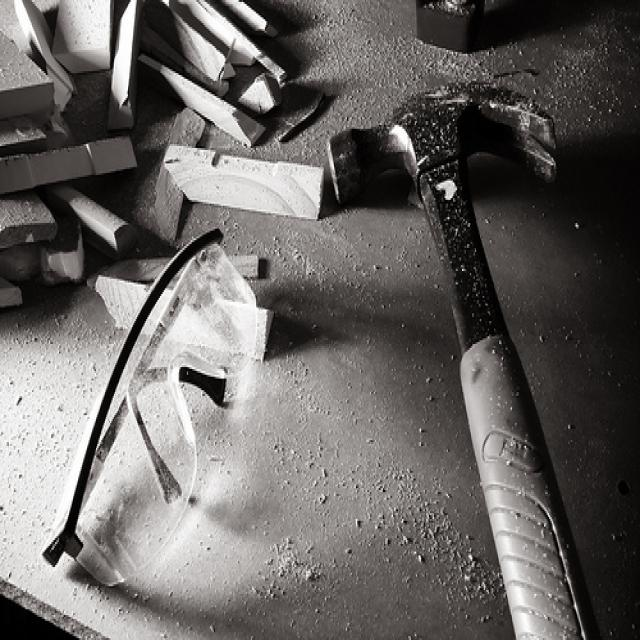hammer: (316, 54, 570, 545)
